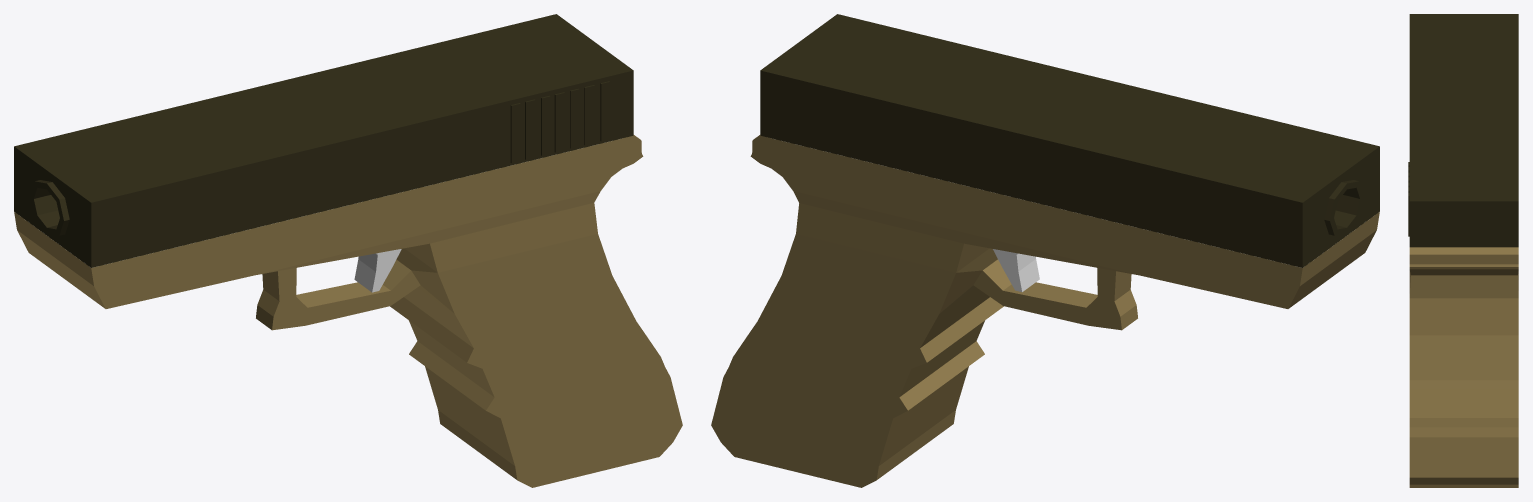
The model's file is Glock.fbx.
3 renders of one model, left to right at view 1: azimuth 30°, elevation 25°; view 2: azimuth 150°, elevation 25°; view 3: azimuth 270°, elevation 25°, orthographic. The views are drawn at different scales.
Parts seen in each view (by area): view 1: Cube, Cube.002, Cube.003; view 2: Cube, Cube.002, Cube.003; view 3: Cube, Cube.002.
Part boxes in pixels (<box>): Cube: <box>14,135,682,487</box>; Cube.002: <box>14,14,633,267</box>; Cube.003: <box>354,249,401,292</box>; Cube: <box>711,135,1379,487</box>; Cube.002: <box>760,14,1379,267</box>; Cube.003: <box>993,249,1039,292</box>; Cube: <box>1409,247,1518,487</box>; Cube.002: <box>1408,14,1518,247</box>.
Bounding box in the file's own units: 794 × 499 × 180.
